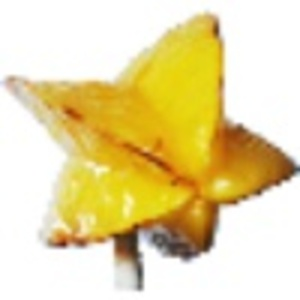carambola: (1, 11, 300, 285)
